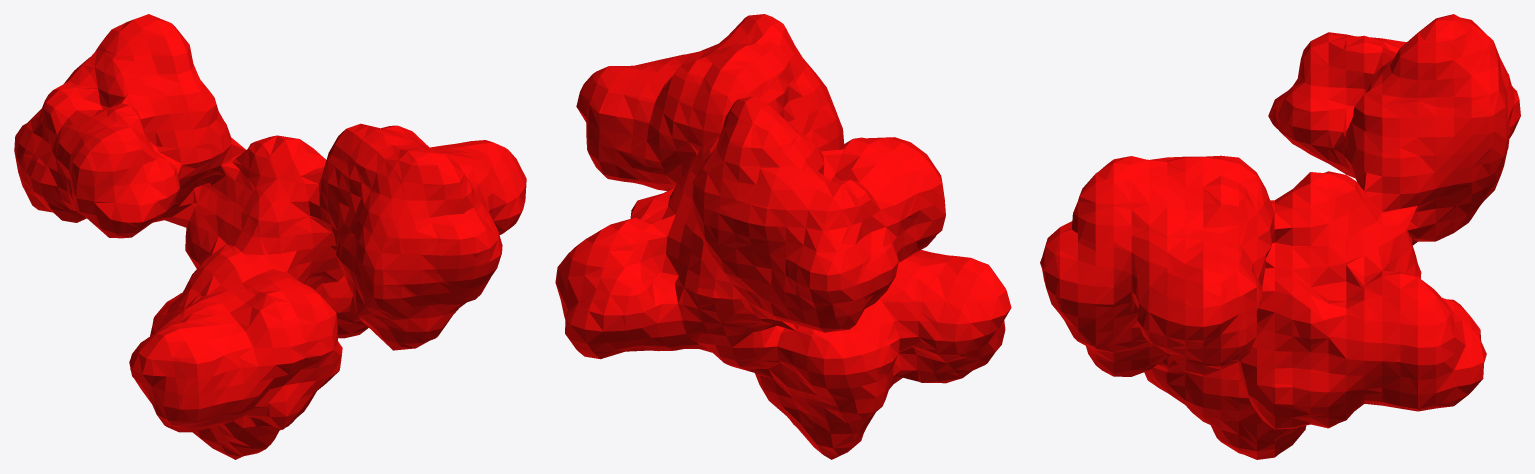
File: purN_coarse.dae
3 views of the same model, side by side, from view 1: azimuth 30°, elevation 25°; view 2: azimuth 150°, elevation 25°; view 3: azimuth 270°, elevation 25° (orthographic). The views are drawn at different scales.
Parts seen in each view (by area): view 1: purN; view 2: purN; view 3: purN.
Part boxes in pixels (x1,y1,x2,y2): purN: (14, 14, 526, 459); purN: (555, 14, 1011, 459); purN: (1040, 14, 1520, 459).
Bounding box in the file's own units: 101 × 94.86 × 94.68.
